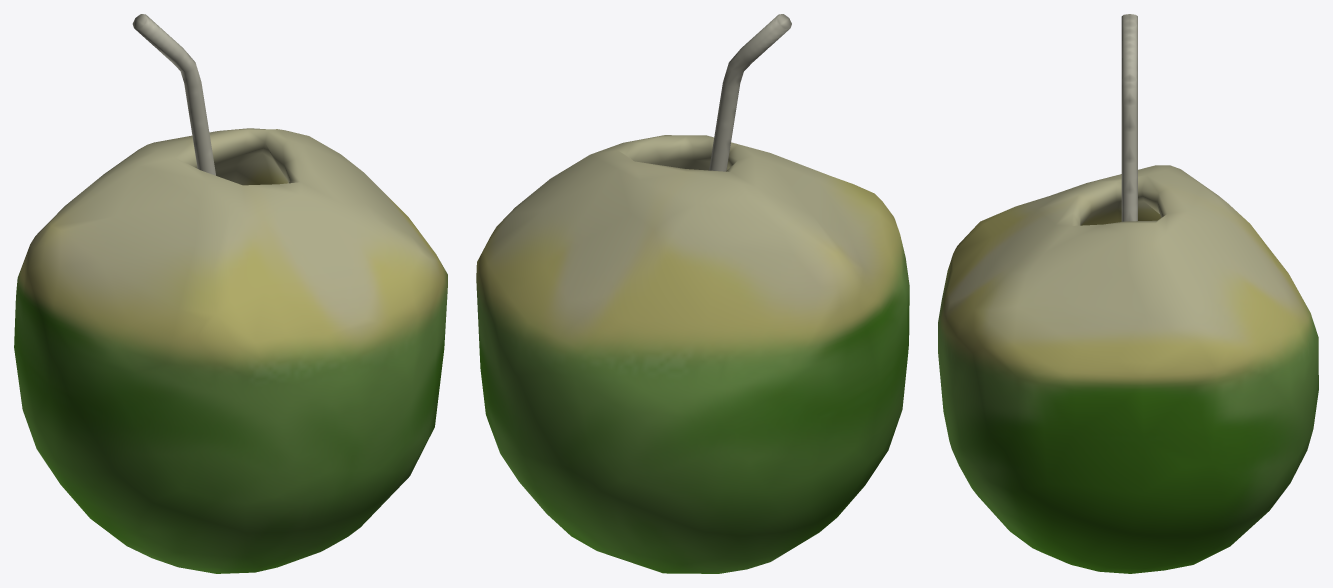
The model's file is CoconutCup.fbx.
3 renders of one model, left to right at view 1: azimuth 30°, elevation 25°; view 2: azimuth 150°, elevation 25°; view 3: azimuth 270°, elevation 25°, orthographic. The views are drawn at different scales.
Visible parts, largest first — view 1: CoconutCup; view 2: CoconutCup; view 3: CoconutCup.
Boxes of the visible parts, x1,y1,x2,y2 form: CoconutCup: (14,14,447,573); CoconutCup: (476,14,909,573); CoconutCup: (938,14,1318,573).
Size of the model in its own units: 17.03 by 24.5 by 16.92.
